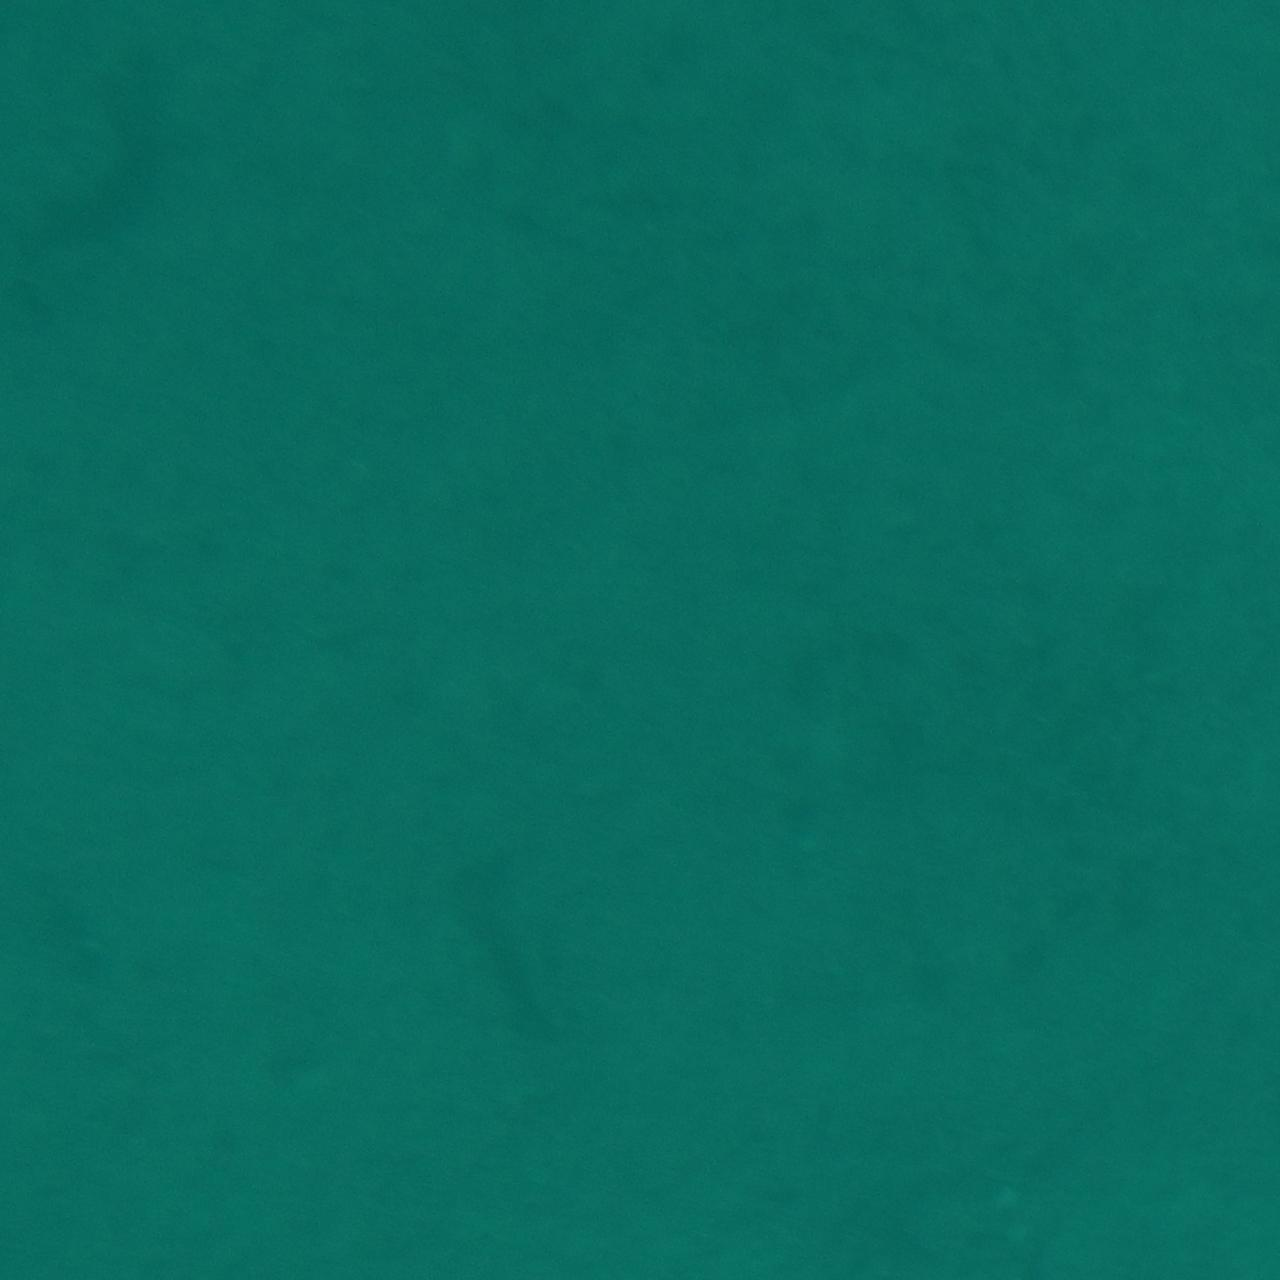Holothuria tubulosa: (2, 23, 186, 259), (433, 835, 578, 1069)
